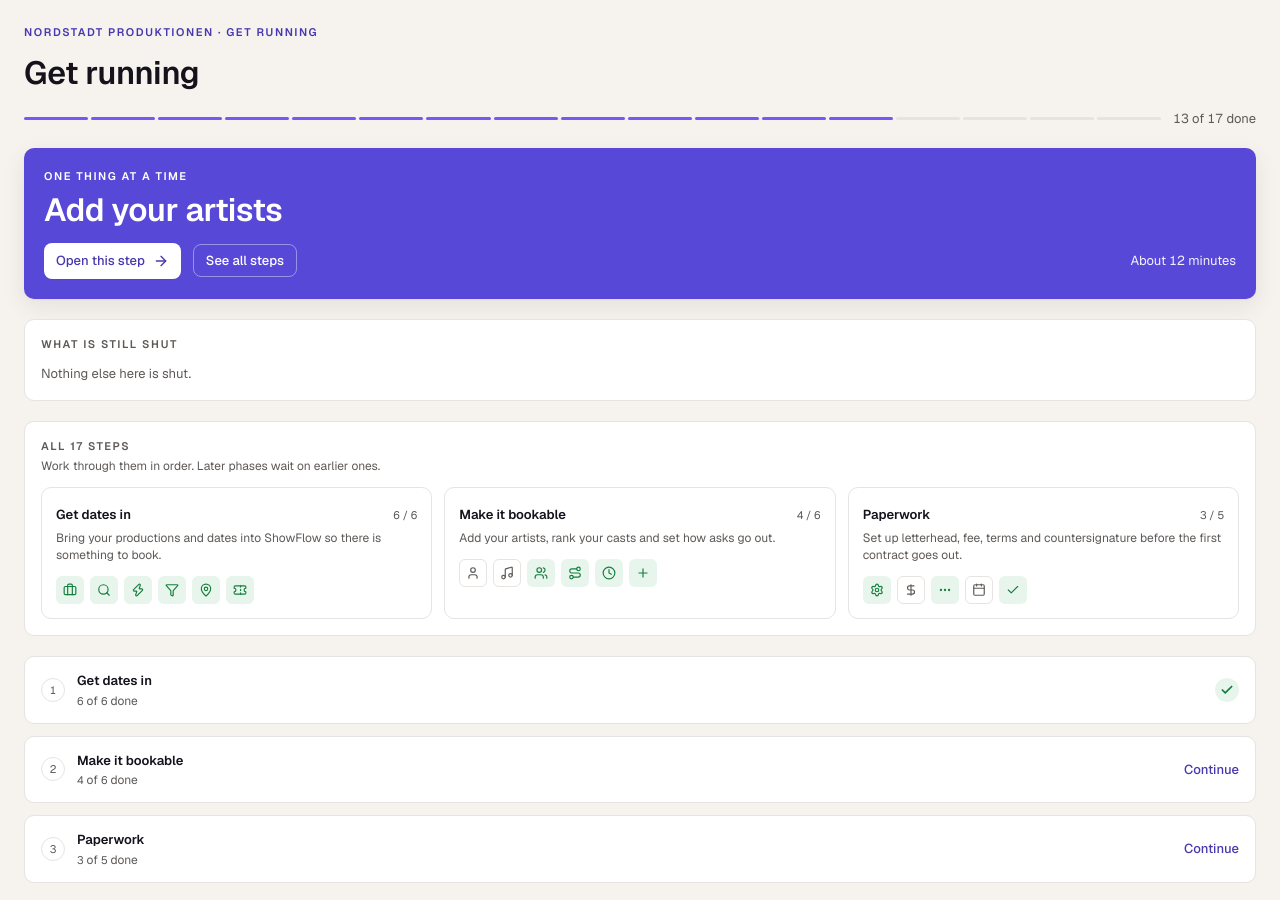
Test case: GetRunningBoardV3 › advance and phase handoff › advances to the next outstanding step when the open step completes from data alone
Later steps or results of the test are not shown.
Click the button with test id "phase-row-bookable" at (130, 760), box [25, 736, 1255, 802]
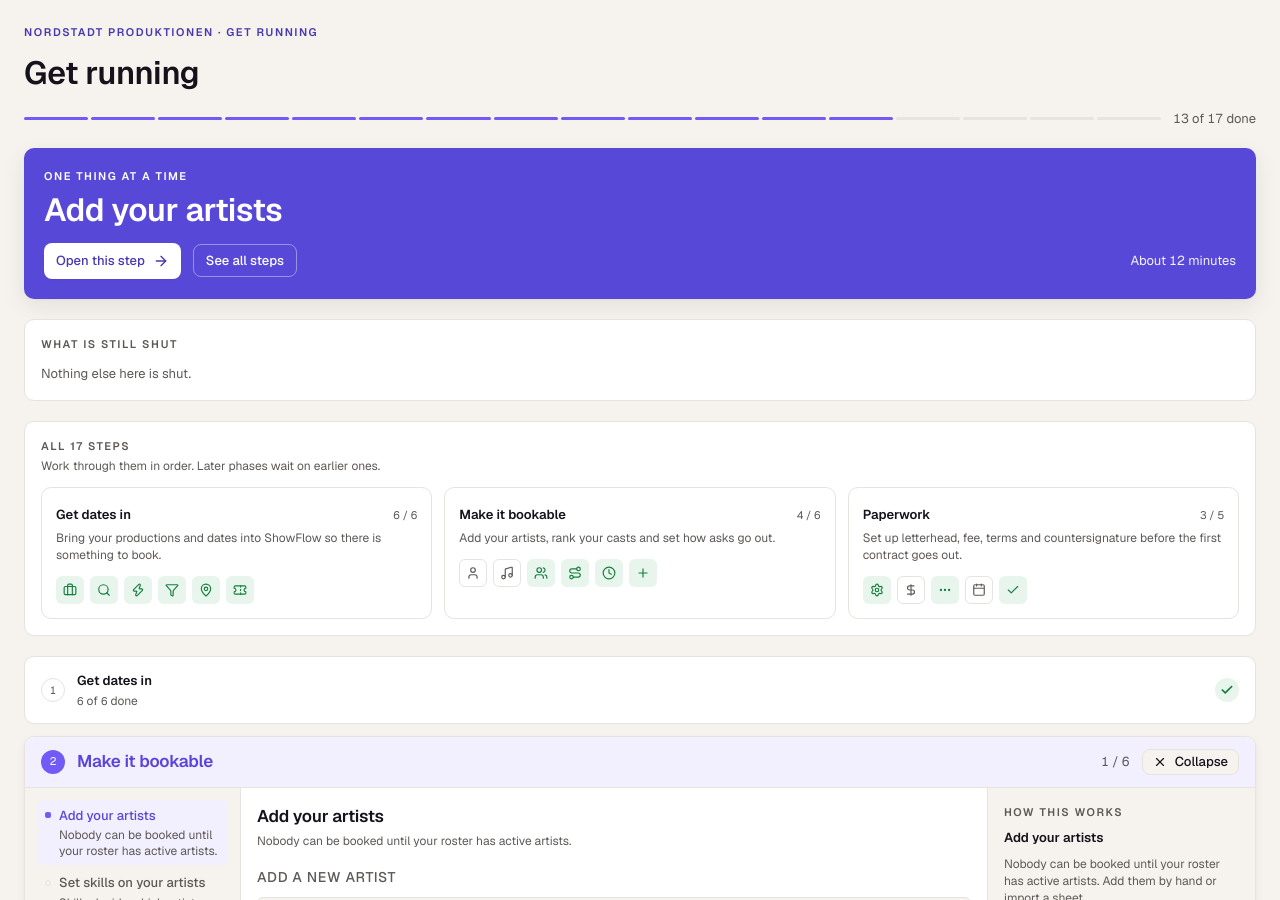
Expected: the text "Add a new artist" is shown, [257, 868, 396, 886]
